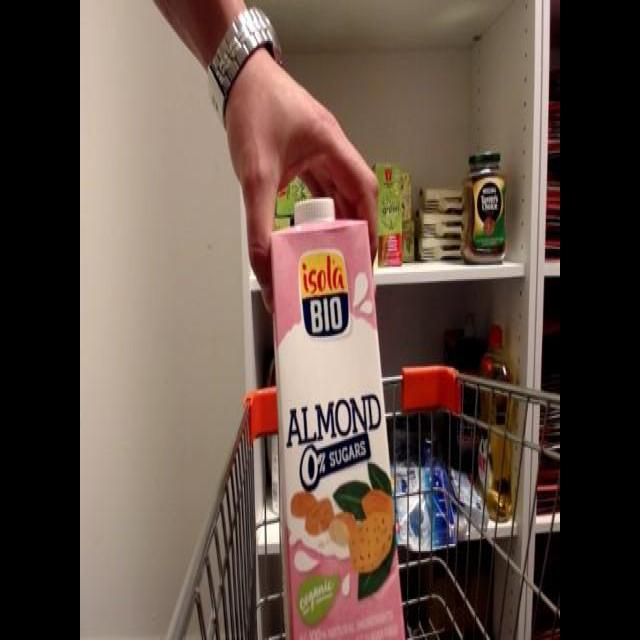Almond Milk: (264, 181, 410, 640)
